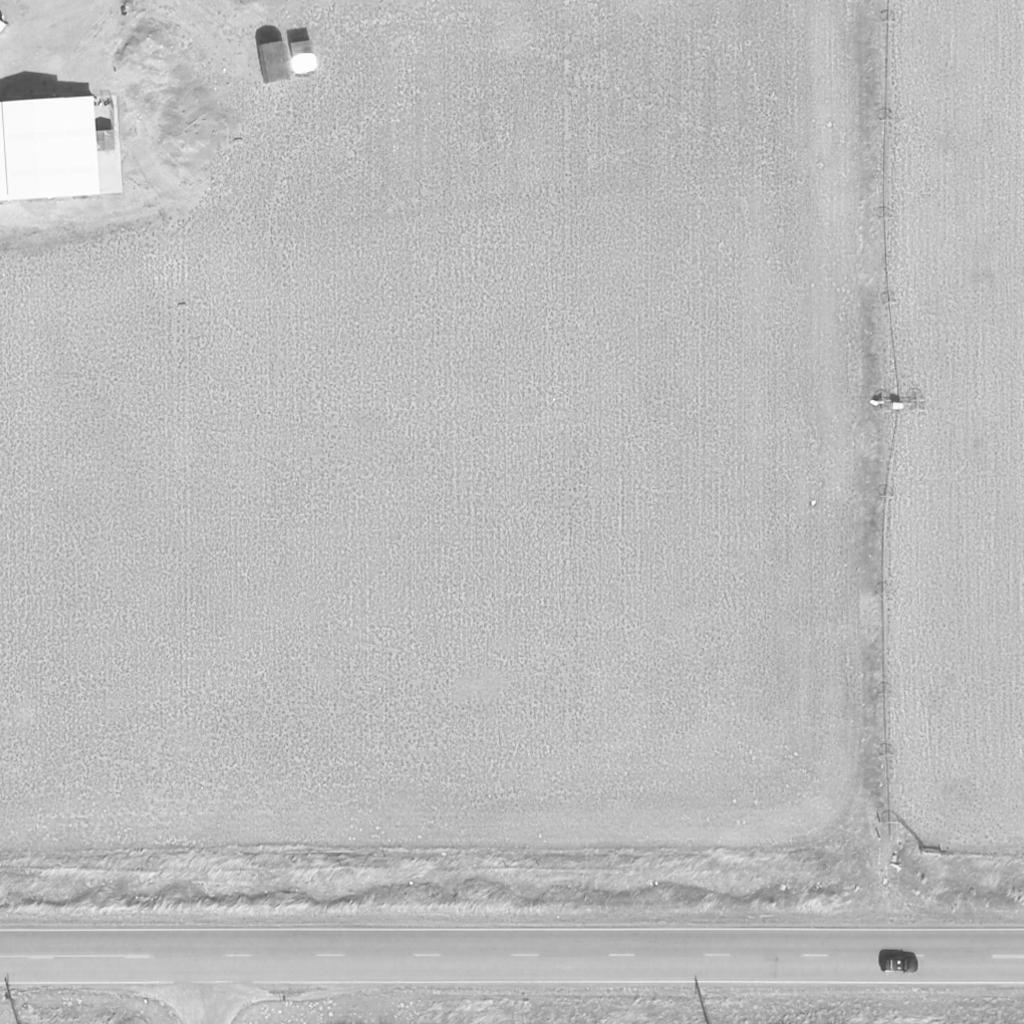vehicle: (880, 957, 920, 973)
